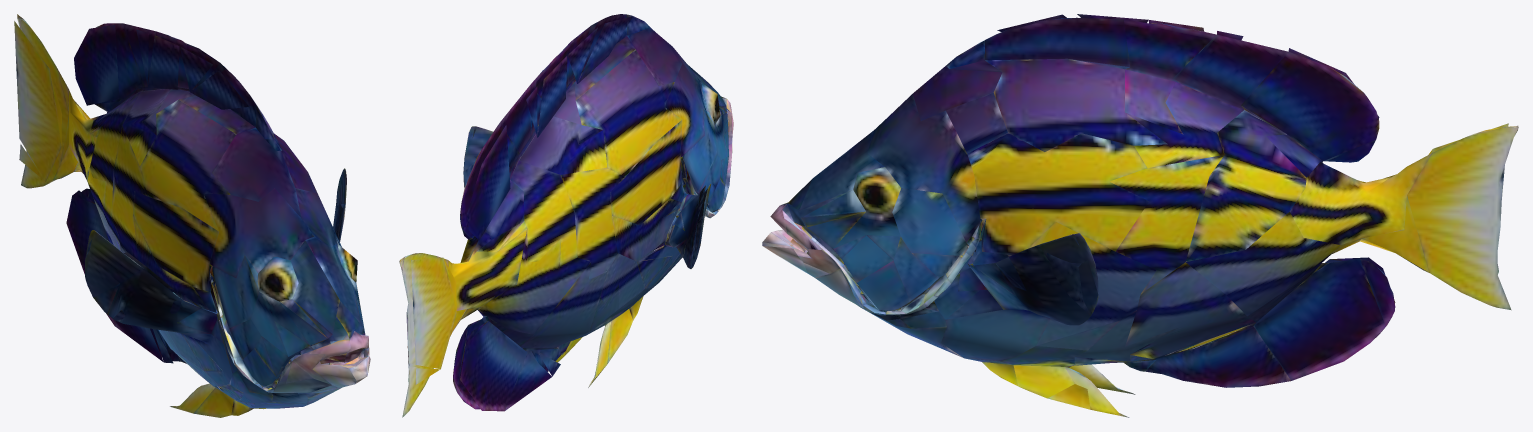
File: fish-angel.lod1.glb
3 renders of one model, left to right at view 1: azimuth 30°, elevation 25°; view 2: azimuth 150°, elevation 25°; view 3: azimuth 270°, elevation 25°, orthographic. The views are drawn at different scales.
Bounding box in the file's own units: 0.1762 × 0.2388 × 0.42.
1 material, 1 textured.
